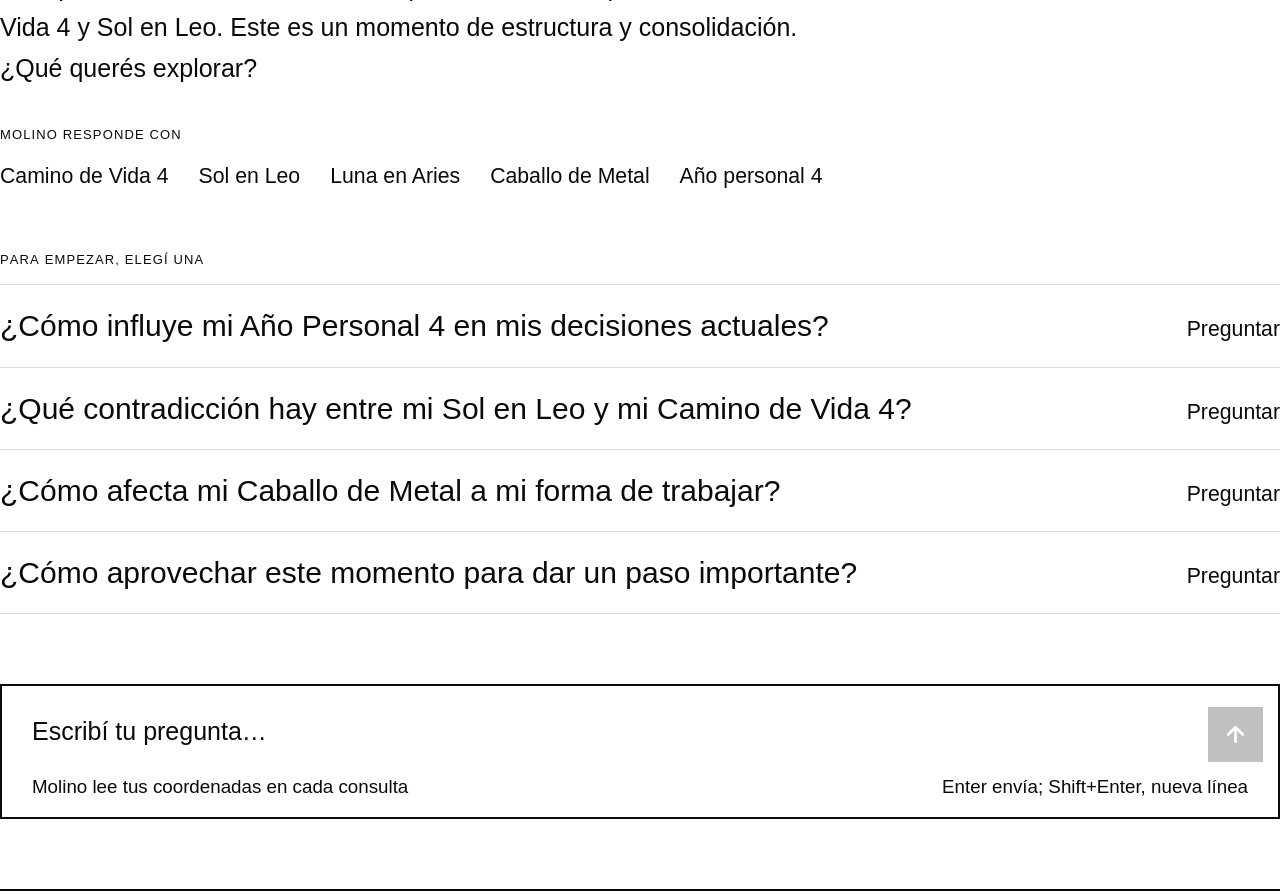
Scenario: Chat Redesign UI Components › PremiumChatSection full flow › renders hero initially and allows asking a question with real credit decrement
(page scrolled)
Type "¿Cuál es mi mayor fortaleza?" into the text box with placeholder "Escribí tu pregunta…".
click(605, 732); type("¿Cuál es mi mayor fortaleza?")  # box [17,701,1193,762]
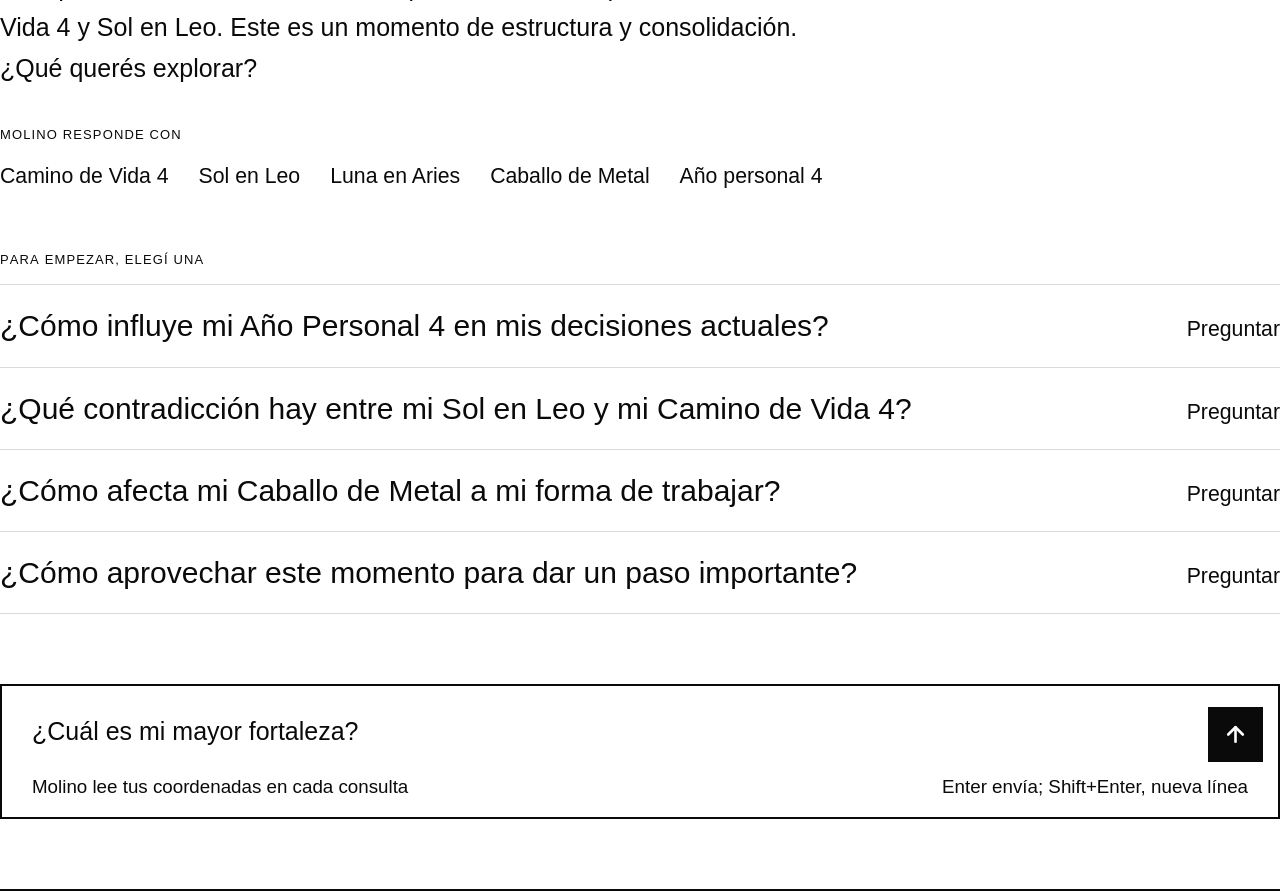
Click the button named "Enviar pregunta".
click(1236, 735)  # box [1208,707,1263,762]
(page scrolled)
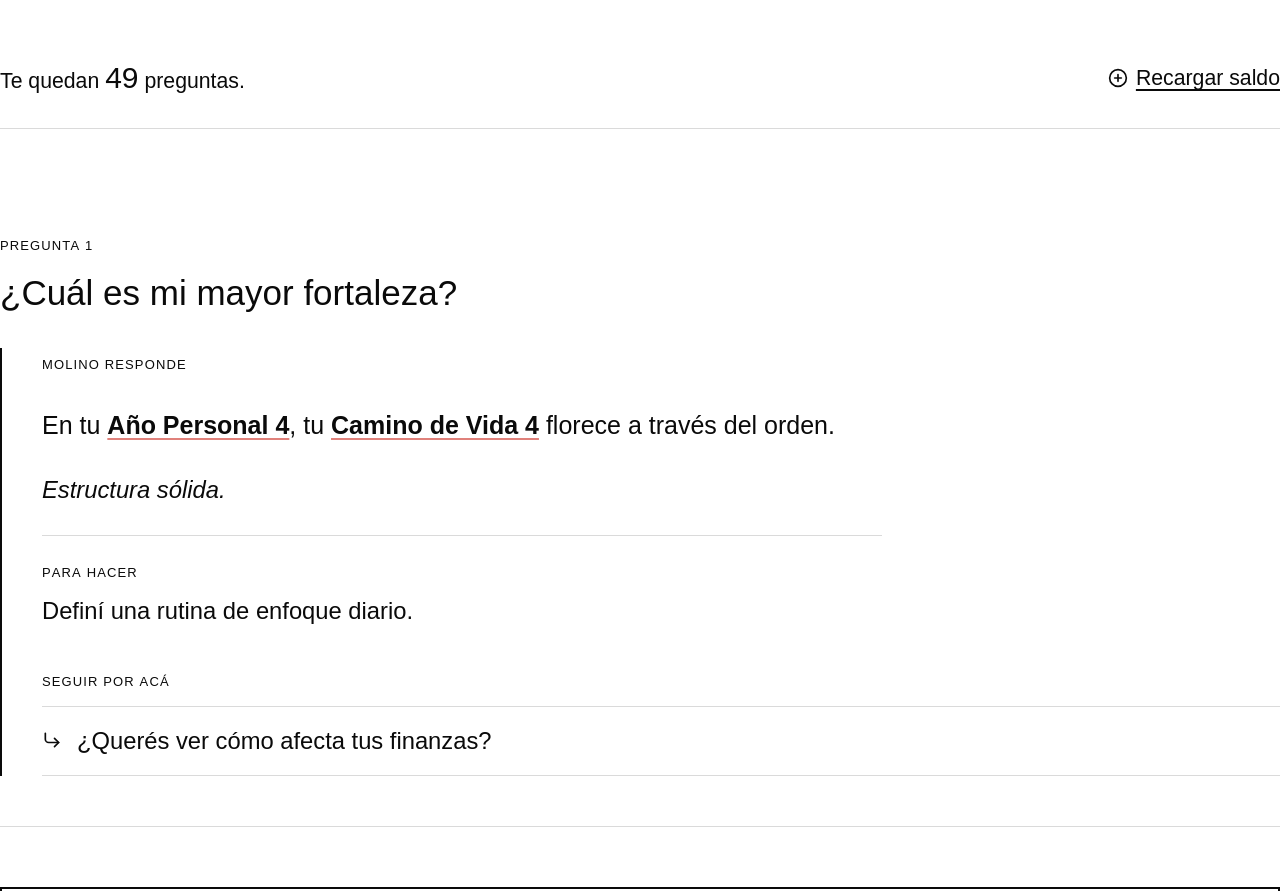
Now the text "En tu" is shown, box [42,410,107,438]
Now the text "49" is shown, box [105,61,139,94]
